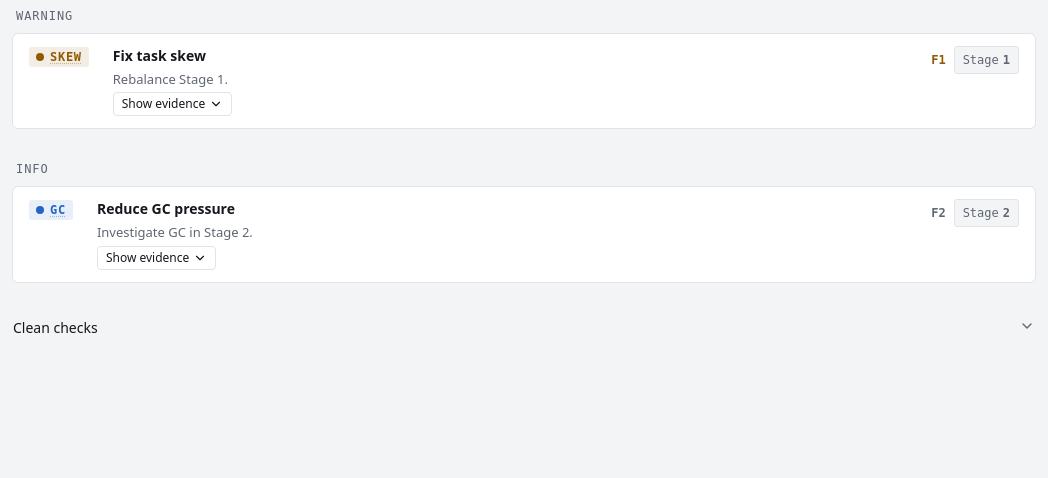
Test case: ImpactBoard in Basic view › leads each band with its rows and folds each row's evidence card until asked
This screenshot has width=1048, height=478.
Expected: the text "Rebalance Stage 1." is shown, x1=113 y1=70 x2=228 y2=88
Click the button "Show evidence" below "Rebalance Stage 1.": [172, 104] box x1=113 y1=92 x2=232 y2=116
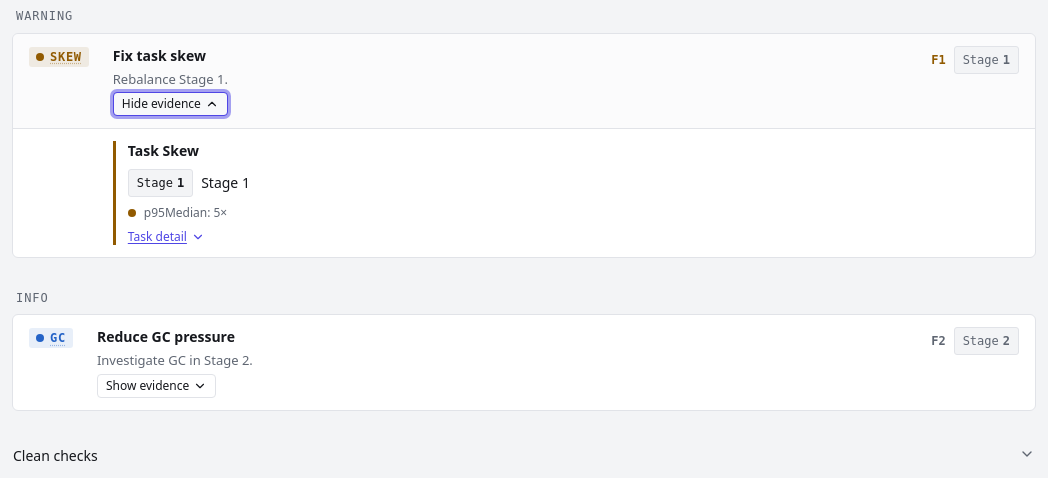
Now the heading "Task Skew" is shown, box x1=128 y1=141 x2=199 y2=161
Now the button "Hide evidence" is expanded, box x1=113 y1=92 x2=228 y2=116
